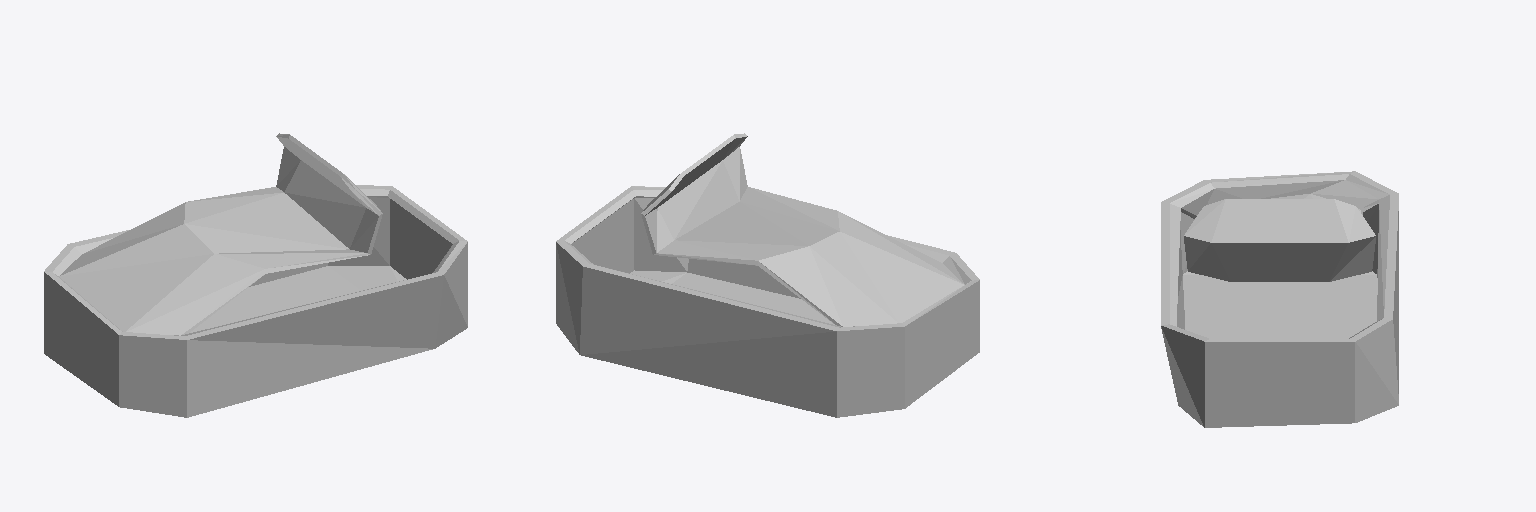
The model's file is Can_02_GEO.obj.
3 views of the same model, side by side, from view 1: azimuth 30°, elevation 25°; view 2: azimuth 150°, elevation 25°; view 3: azimuth 270°, elevation 25° (orthographic).
Parts seen in each view (by area): view 1: Can_02_GEO; view 2: Can_02_GEO; view 3: Can_02_GEO.
Boxes of the visible parts, x1,y1,x2,y2 form: Can_02_GEO: [44, 133, 467, 417]; Can_02_GEO: [556, 133, 979, 417]; Can_02_GEO: [1161, 171, 1398, 427].
Size of the model in its own units: 1241 by 590 by 735.